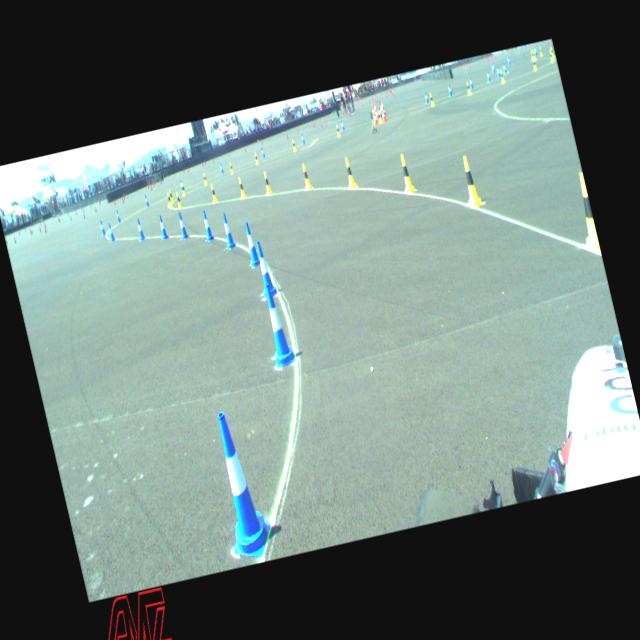blue_cone: (202, 406, 276, 562), (258, 282, 295, 366), (252, 240, 278, 298), (242, 220, 260, 266), (220, 212, 236, 248), (200, 209, 213, 240), (176, 212, 188, 238), (157, 214, 168, 238), (136, 218, 146, 240), (107, 223, 115, 241), (98, 220, 105, 234), (447, 84, 452, 96), (468, 76, 473, 88), (218, 163, 224, 173), (490, 62, 495, 73), (116, 209, 120, 222), (502, 62, 507, 72), (260, 147, 265, 157), (144, 194, 148, 206), (486, 70, 490, 81), (424, 91, 428, 102), (300, 134, 304, 144), (496, 66, 500, 76), (340, 120, 344, 130), (179, 180, 183, 190), (378, 107, 382, 117), (507, 56, 510, 64), (534, 48, 536, 54)
large_orange_cone: (378, 102, 386, 122), (370, 104, 378, 124), (373, 102, 379, 120), (381, 99, 386, 117)
yellow_cone: (570, 172, 600, 252), (458, 153, 481, 204), (397, 154, 414, 192), (342, 156, 356, 188), (300, 162, 311, 188), (262, 171, 272, 193), (237, 177, 246, 197), (209, 184, 217, 202), (175, 192, 182, 208), (202, 172, 208, 185), (166, 192, 172, 205), (180, 182, 186, 195), (376, 110, 382, 123), (428, 93, 434, 105), (334, 124, 340, 136), (499, 69, 504, 82), (168, 189, 173, 202), (228, 162, 234, 172), (549, 50, 554, 61), (466, 81, 470, 94), (291, 140, 296, 150), (254, 152, 258, 164), (538, 46, 542, 56), (532, 60, 536, 70), (550, 46, 554, 56), (532, 50, 536, 60), (530, 50, 534, 60)
